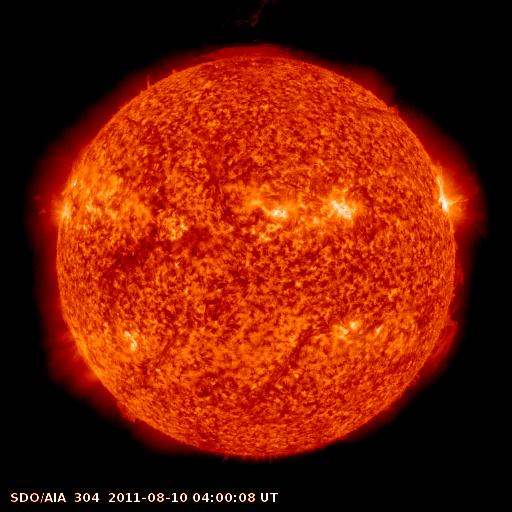prominence: (413, 313, 469, 376), (189, 37, 297, 68), (108, 391, 146, 436), (444, 251, 470, 292)
